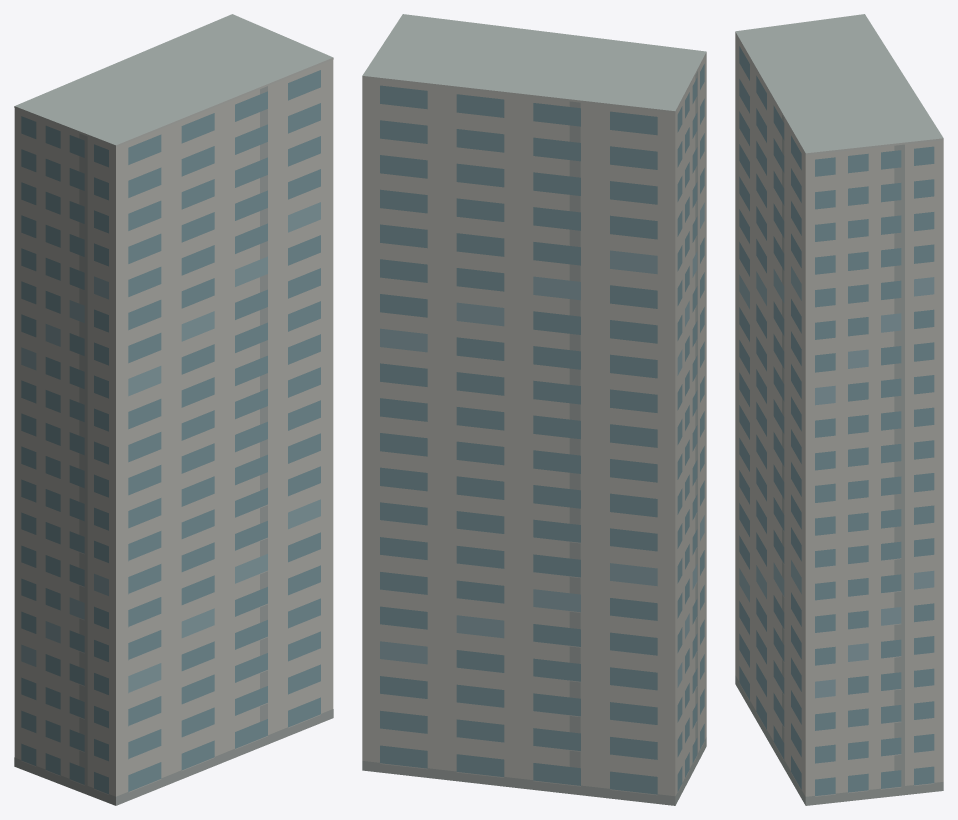
File: residential-13cb801e-7a6f-4c3e-9df4-1285f90bbc4f.glb
The picture shows the model from 3 angles, left to right: view 1: azimuth 30°, elevation 25°; view 2: azimuth 150°, elevation 25°; view 3: azimuth 270°, elevation 25°; orthographic projection. The views are drawn at different scales.
Visible parts, largest first — view 1: residential-13cb801e-7a6f-4c3e-9df4-1285f90bbc4f.tmp; view 2: residential-13cb801e-7a6f-4c3e-9df4-1285f90bbc4f.tmp; view 3: residential-13cb801e-7a6f-4c3e-9df4-1285f90bbc4f.tmp.
Boxes of the visible parts, x1,y1,x2,y2 form: residential-13cb801e-7a6f-4c3e-9df4-1285f90bbc4f.tmp: (14, 14, 333, 805); residential-13cb801e-7a6f-4c3e-9df4-1285f90bbc4f.tmp: (362, 14, 706, 805); residential-13cb801e-7a6f-4c3e-9df4-1285f90bbc4f.tmp: (735, 14, 943, 805).
Bounding box in the file's own units: 36.19 × 79 × 22.89.
